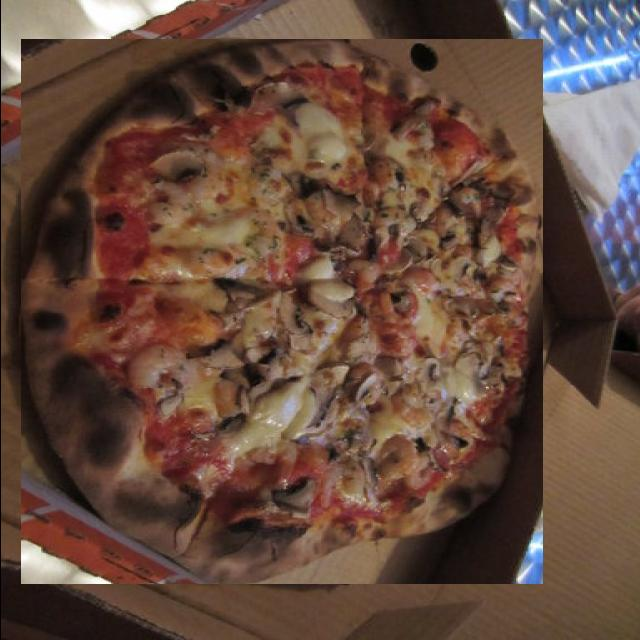pizza: (20, 39, 542, 584)
